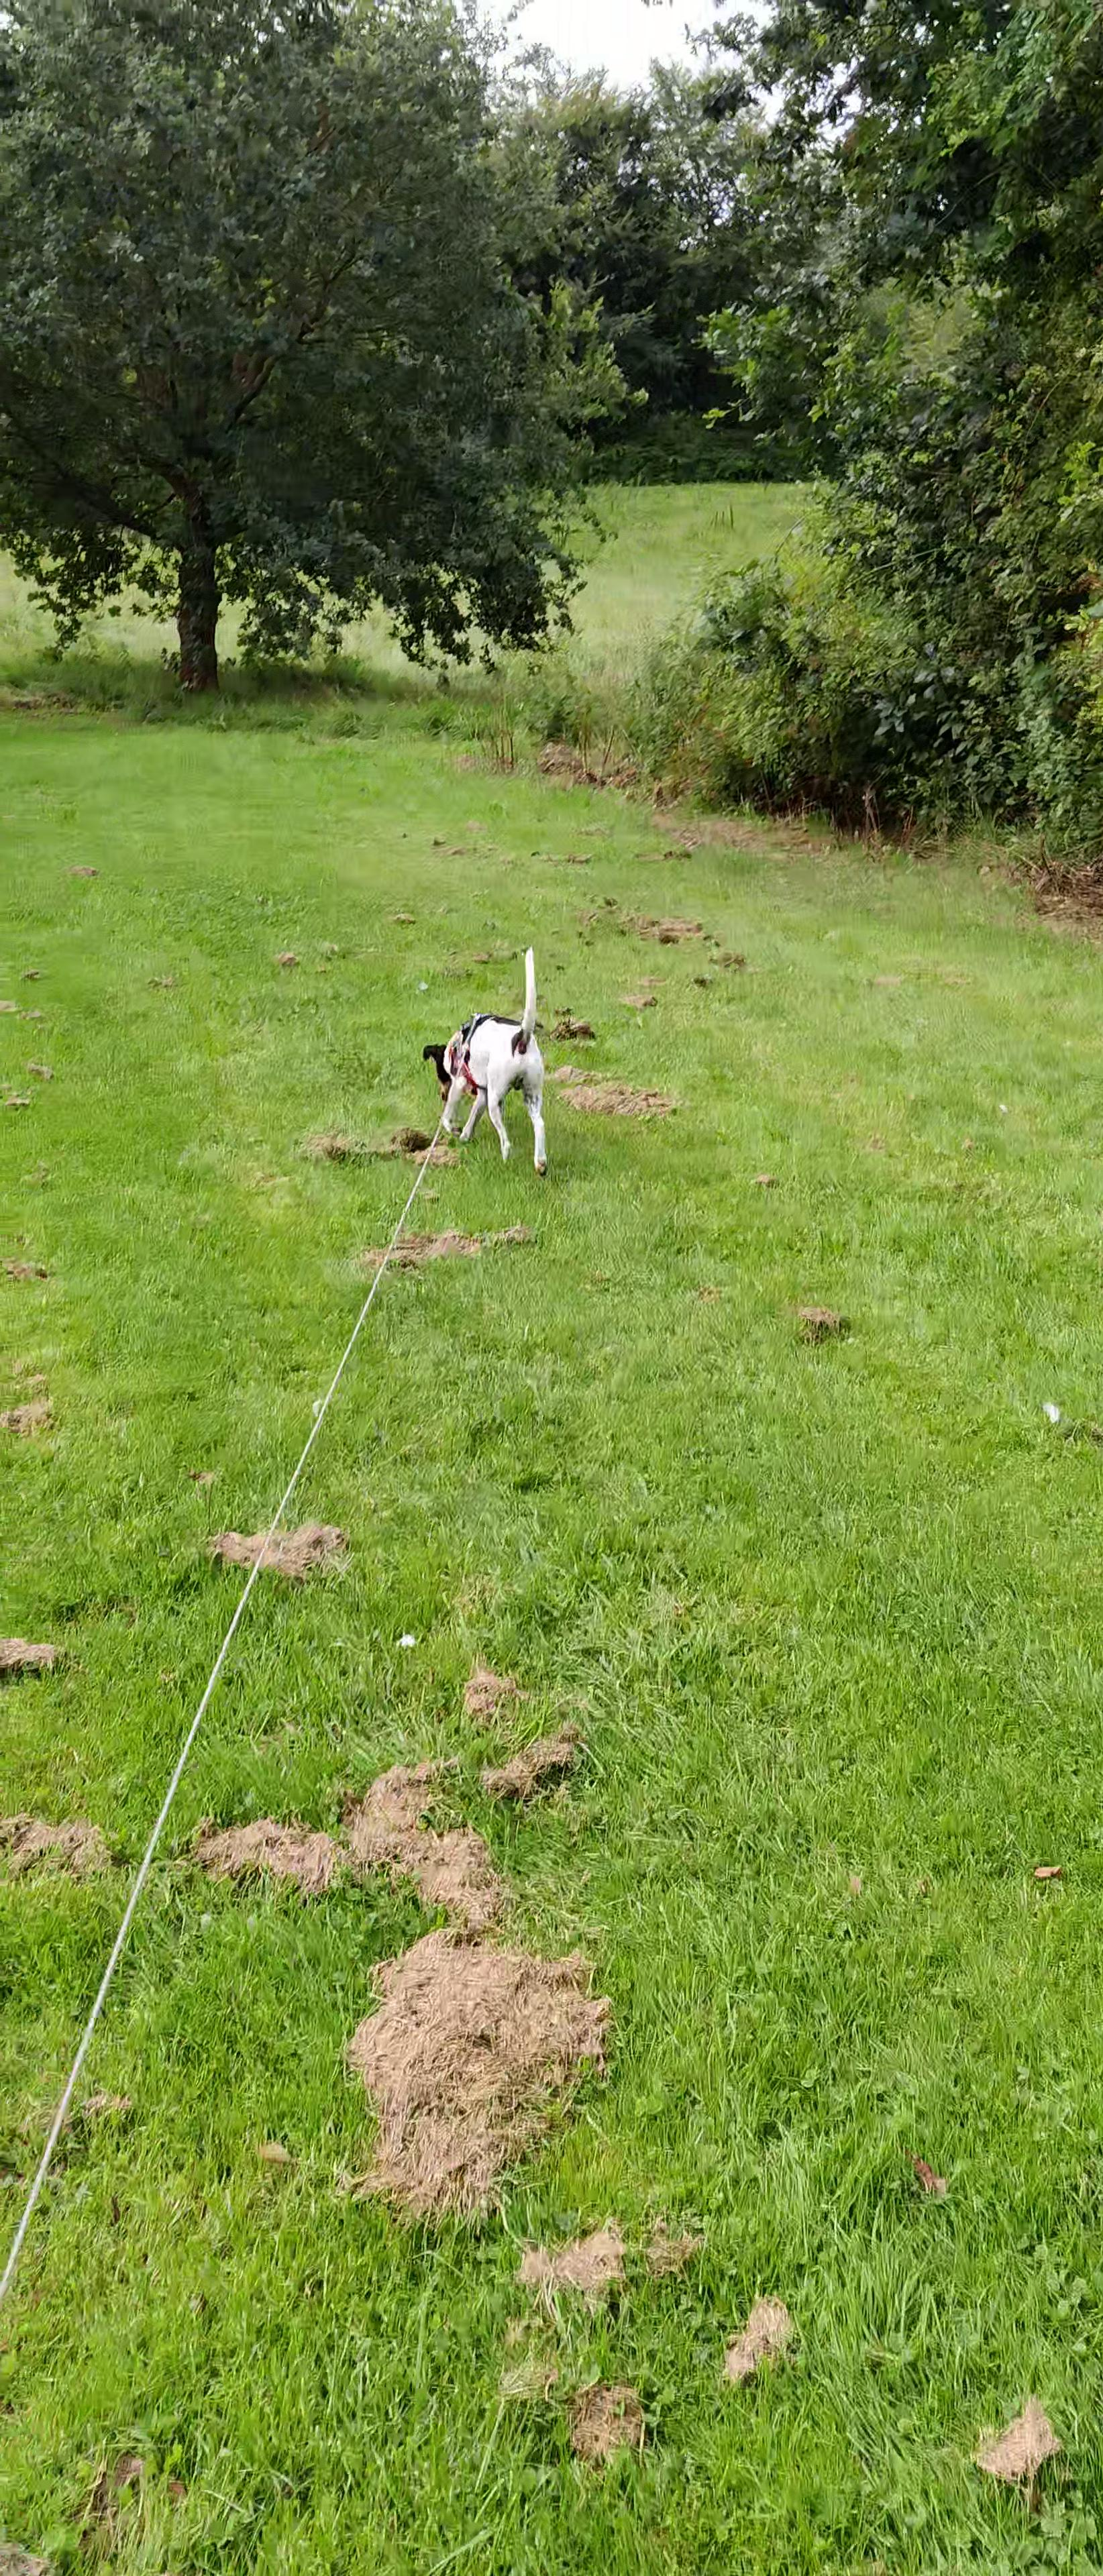Dog: (413, 936, 565, 1184)
